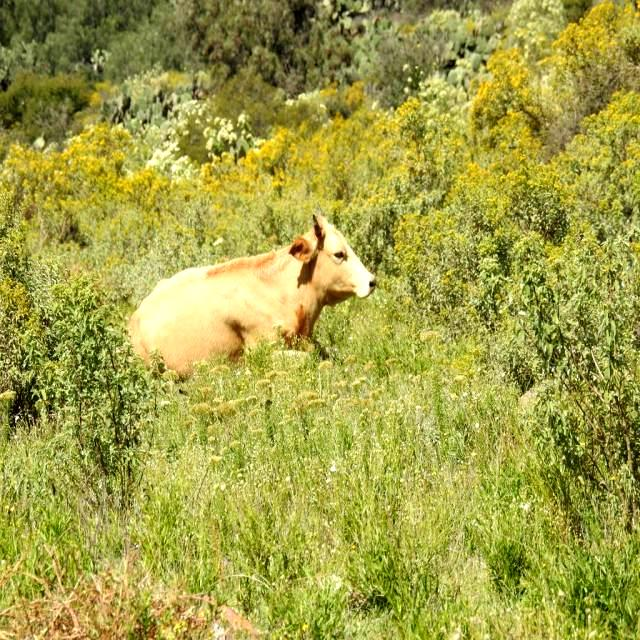COW: (130, 216, 375, 373)
